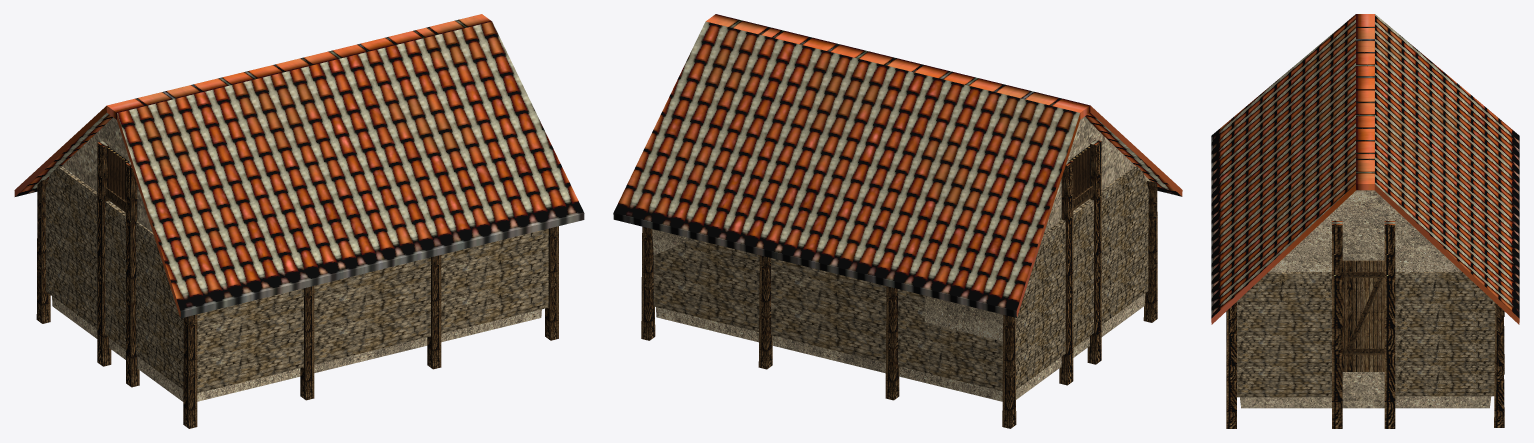
File: house_3.dae
The picture shows the model from 3 angles, left to right: view 1: azimuth 30°, elevation 25°; view 2: azimuth 150°, elevation 25°; view 3: azimuth 270°, elevation 25°; orthographic projection. The views are drawn at different scales.
Visible parts, largest first — view 1: house_3; view 2: house_3; view 3: house_3.
Boxes of the visible parts, x1,y1,x2,y2 form: house_3: (14,14,584,428); house_3: (613,14,1182,428); house_3: (1211,14,1519,428).
Bounding box in the file's own units: 17.5 × 12.47 × 10.99.
